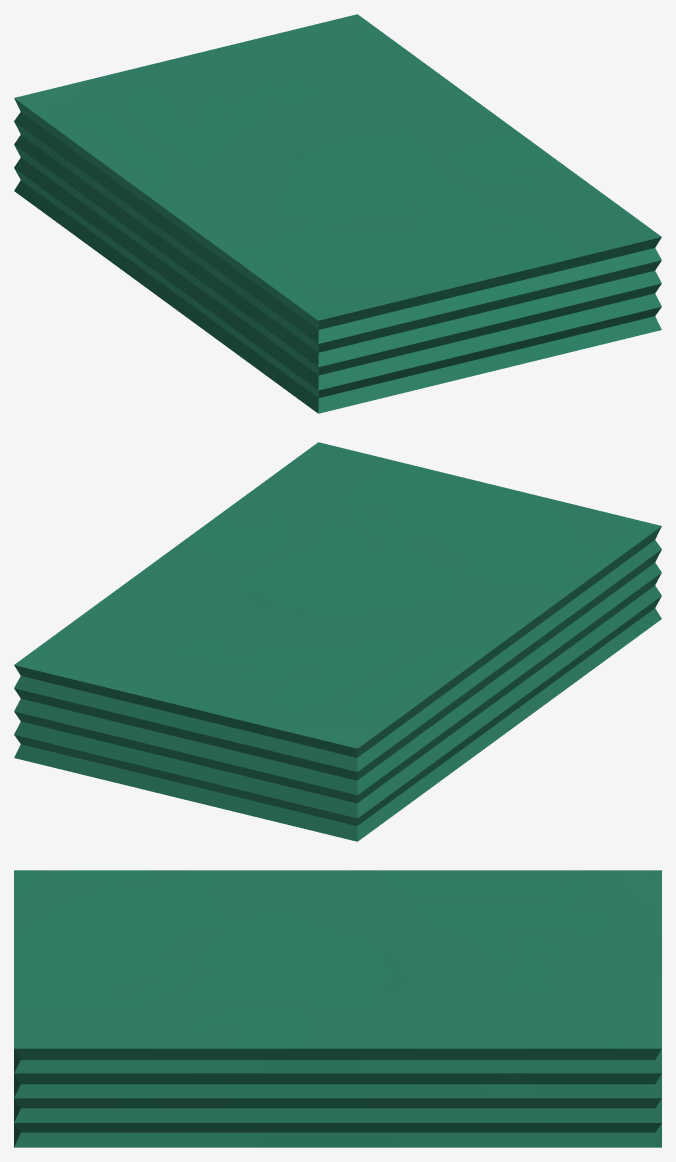
The model's file is mod_discard.fbx.
The picture shows the model from 3 angles, top to bottom: view 1: azimuth 30°, elevation 25°; view 2: azimuth 150°, elevation 25°; view 3: azimuth 270°, elevation 25°; orthographic projection. The views are drawn at different scales.
Visible parts, largest first — view 1: mod_discard; view 2: mod_discard; view 3: mod_discard.
Part boxes in pixels (<box>): mod_discard: <box>14,14,661,413</box>; mod_discard: <box>14,442,661,841</box>; mod_discard: <box>14,870,661,1147</box>.
Bounding box in the file's own units: 29 × 7.5 × 44.5.
